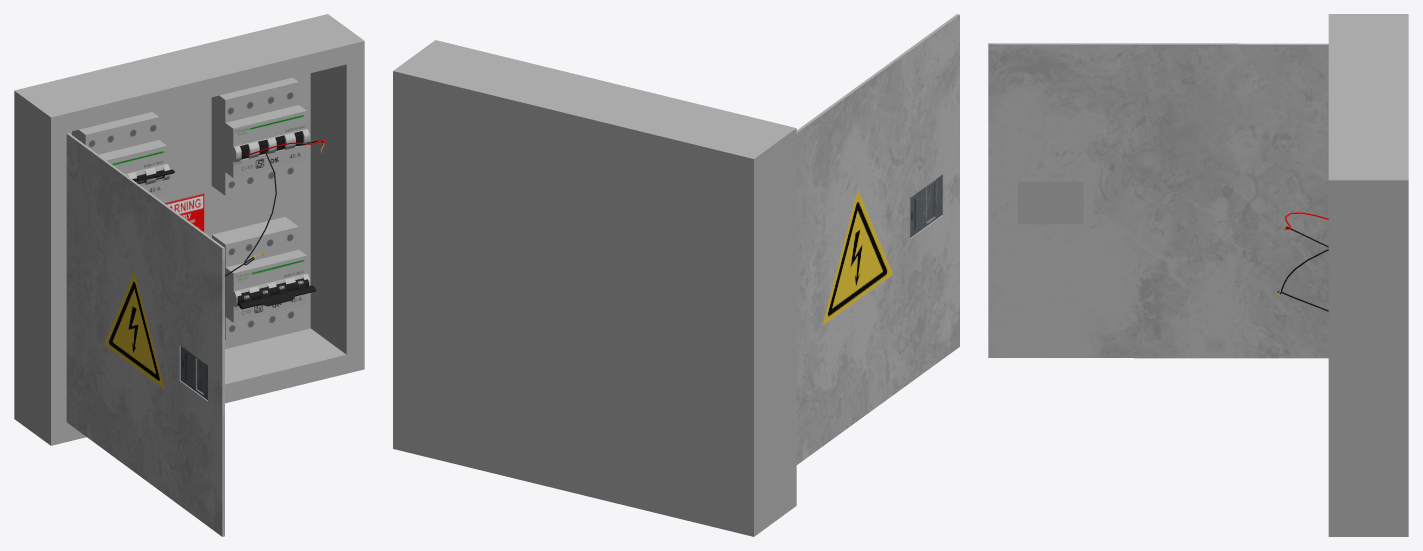
Rendered from ElectricBox.fbx.
3 renders of one model, left to right at view 1: azimuth 30°, elevation 25°; view 2: azimuth 150°, elevation 25°; view 3: azimuth 270°, elevation 25°, orthographic. The views are drawn at different scales.
Visible parts, largest first — view 1: PowerBox; view 2: PowerBox; view 3: PowerBox.
Part boxes in pixels (x1=…): PowerBox: x1=14, y1=14, x2=364, y2=536; PowerBox: x1=393, y1=14, x2=959, y2=536; PowerBox: x1=988, y1=14, x2=1408, y2=536.
Size of the model in its own units: 169 by 169 by 181.
